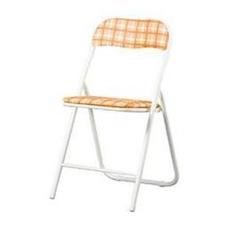chair: (11, 6, 218, 220)
